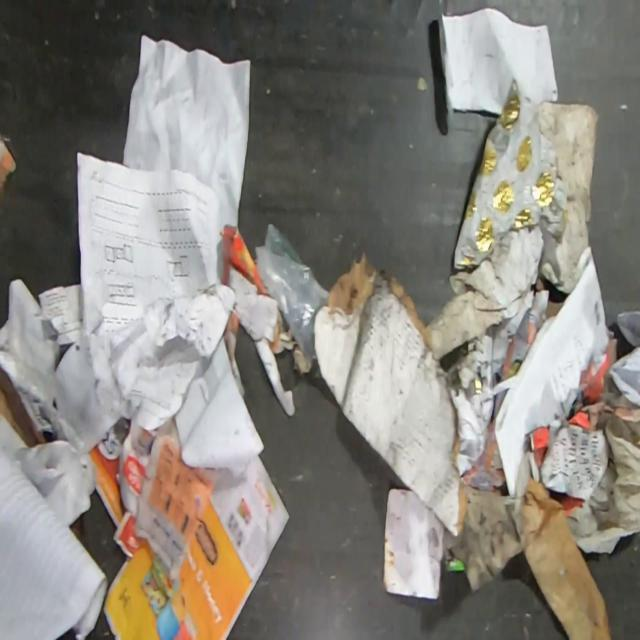cardboard: (314, 249, 468, 536), (216, 225, 298, 354)
soft_plastic: (254, 223, 331, 358)
